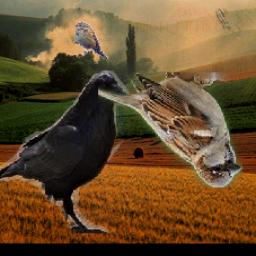Crow: (0, 71, 132, 234)
Sparrow: (98, 73, 242, 188), (76, 21, 109, 59)
